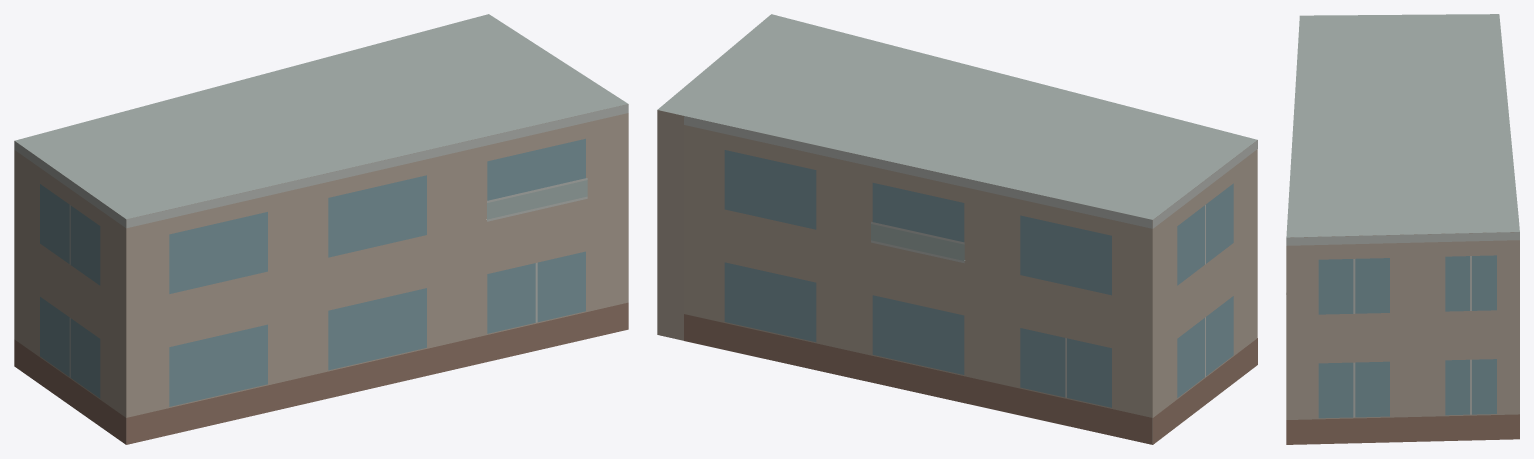
File: survey-upis-32906594.glb
The picture shows the model from 3 angles, left to right: view 1: azimuth 30°, elevation 25°; view 2: azimuth 150°, elevation 25°; view 3: azimuth 270°, elevation 25°; orthographic projection. The views are drawn at different scales.
Parts seen in each view (by area): view 1: survey-upis-32906594.tmp; view 2: survey-upis-32906594.tmp; view 3: survey-upis-32906594.tmp.
Boxes of the visible parts, left/top/right/bottom form: survey-upis-32906594.tmp: left=14, top=14, right=628, bottom=444; survey-upis-32906594.tmp: left=657, top=14, right=1257, bottom=444; survey-upis-32906594.tmp: left=1286, top=14, right=1519, bottom=444.
Size of the model in its own units: 14.12 by 6.1 by 6.24.
